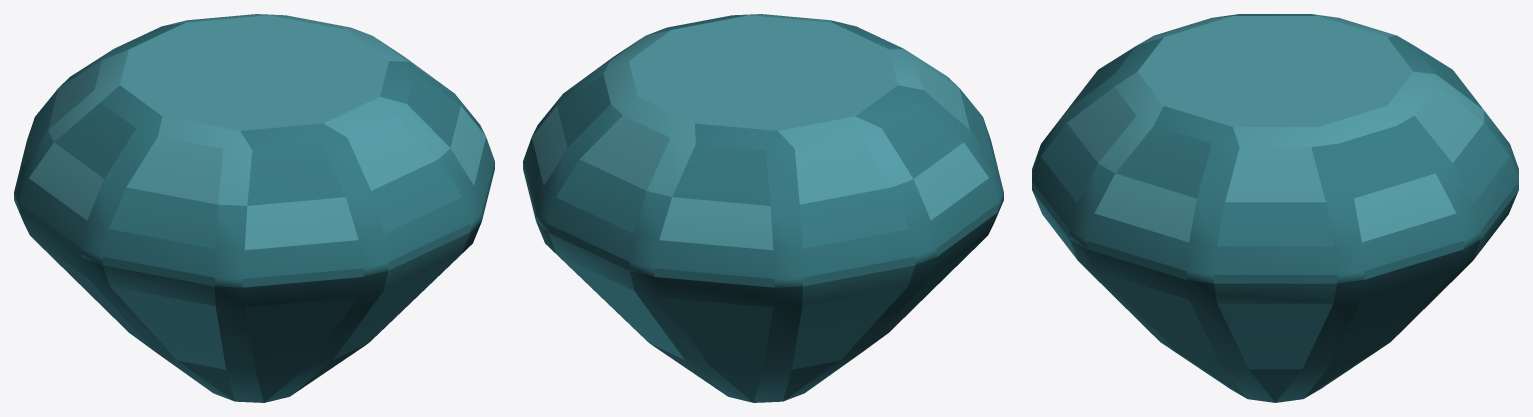
File: Gem_18.glb
3 views of the same model, side by side, from view 1: azimuth 30°, elevation 25°; view 2: azimuth 150°, elevation 25°; view 3: azimuth 270°, elevation 25° (orthographic).
Parts seen in each view (by area): view 1: Gem_18; view 2: Gem_18; view 3: Gem_18.
Boxes of the visible parts, box(x1,y1,x2,y2) form: Gem_18: box(14, 14, 494, 402); Gem_18: box(523, 14, 1003, 402); Gem_18: box(1032, 14, 1518, 402).
Size of the model in its own units: 0.9377 by 0.6823 by 0.9675.
